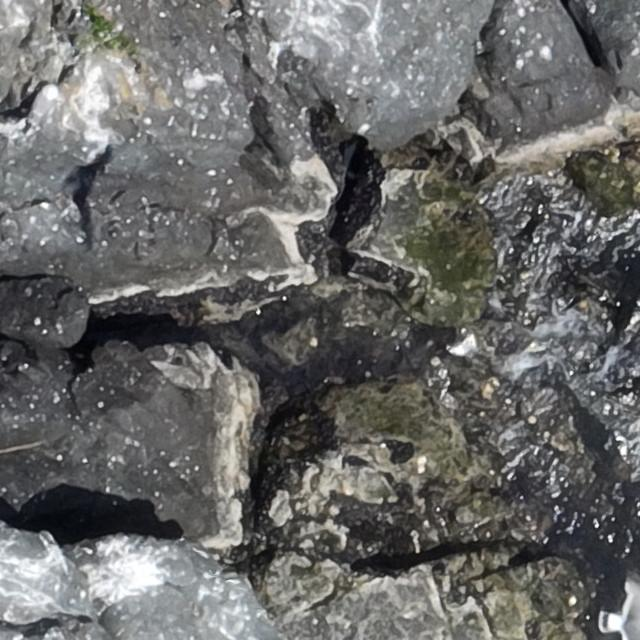umineko: (25, 82, 58, 130)
